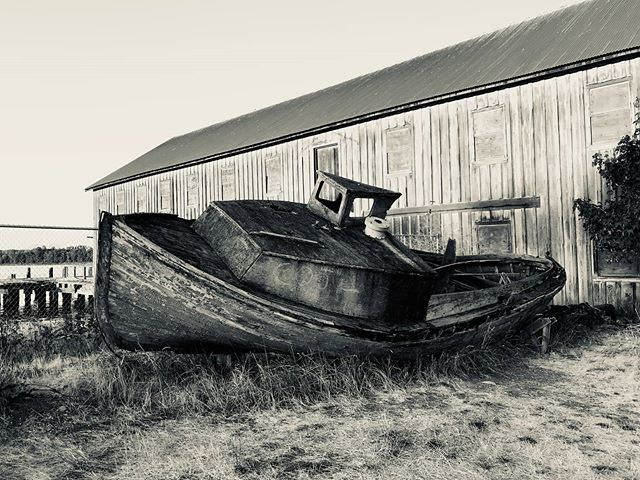boat: (85, 186, 581, 358)
building: (88, 8, 640, 281)
sky: (10, 1, 436, 169)
